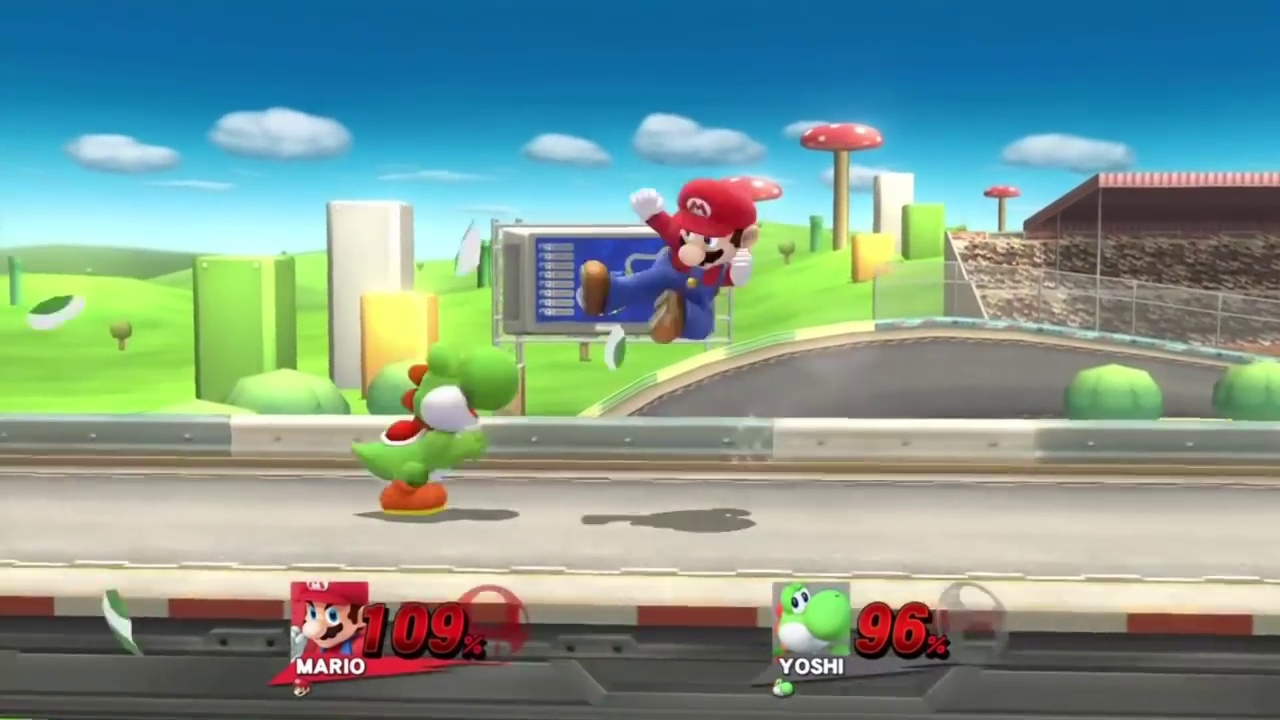Mario: (582, 182, 760, 344)
